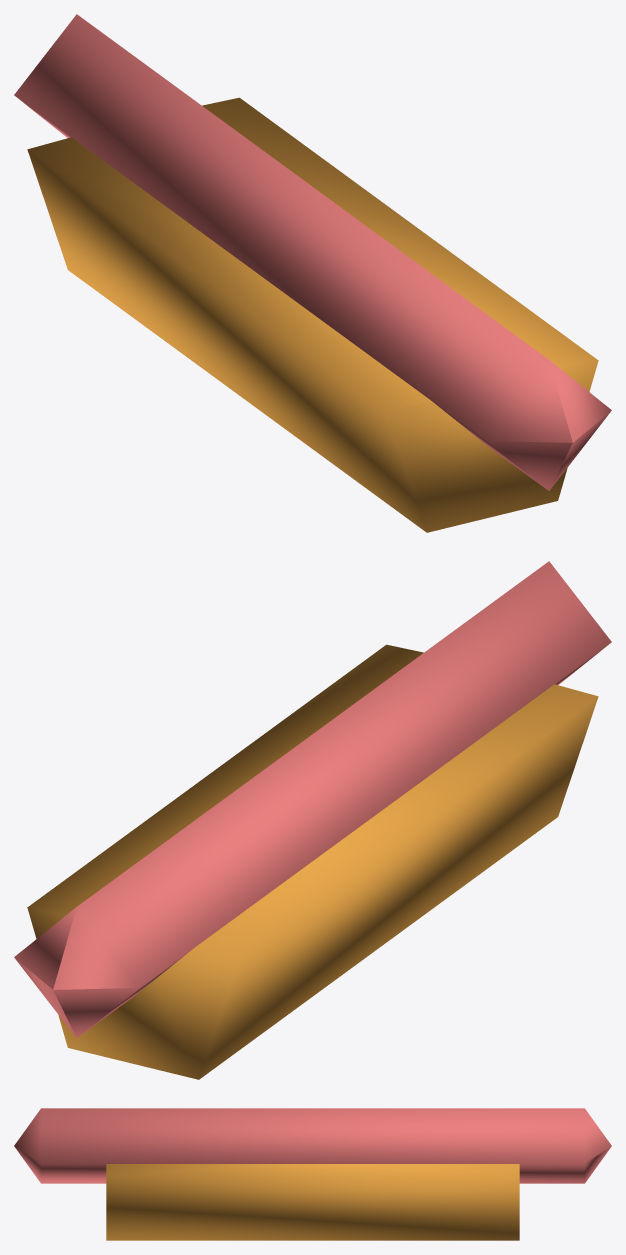
File: HotDog.fbx
3 views of the same model, one above another, from view 1: azimuth 30°, elevation 25°; view 2: azimuth 150°, elevation 25°; view 3: azimuth 270°, elevation 25° (orthographic). The views are drawn at different scales.
Visible parts, largest first — view 1: Bun, Dog; view 2: Bun, Dog; view 3: Dog, Bun.
Part boxes in pixels (x1,y1,x2,y2): Bun: [27, 97, 598, 532]; Dog: [14, 14, 611, 490]; Bun: [27, 644, 598, 1079]; Dog: [14, 561, 611, 1037]; Dog: [14, 1108, 611, 1183]; Bun: [106, 1164, 519, 1240].
Bounding box in the file's own units: 19.05 × 17.03 × 80.82.
